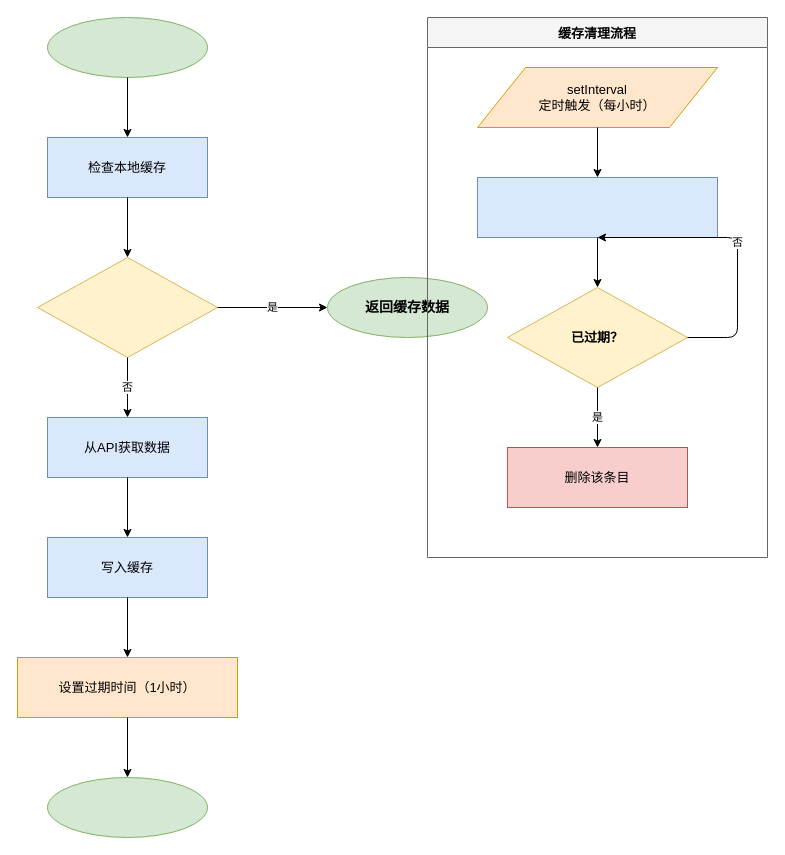
This 785x855 diagram has some shape labels left out. The shapes that lost their labels are listed below. From the top down, each one's box as (x1, y1, x2, y2) in pixels, then its label:
(46, 16, 208, 78): 开始
(476, 176, 718, 238): 遍历缓存条目
(36, 256, 218, 358): 缓存有效？
(46, 776, 208, 838): 返回最新数据
